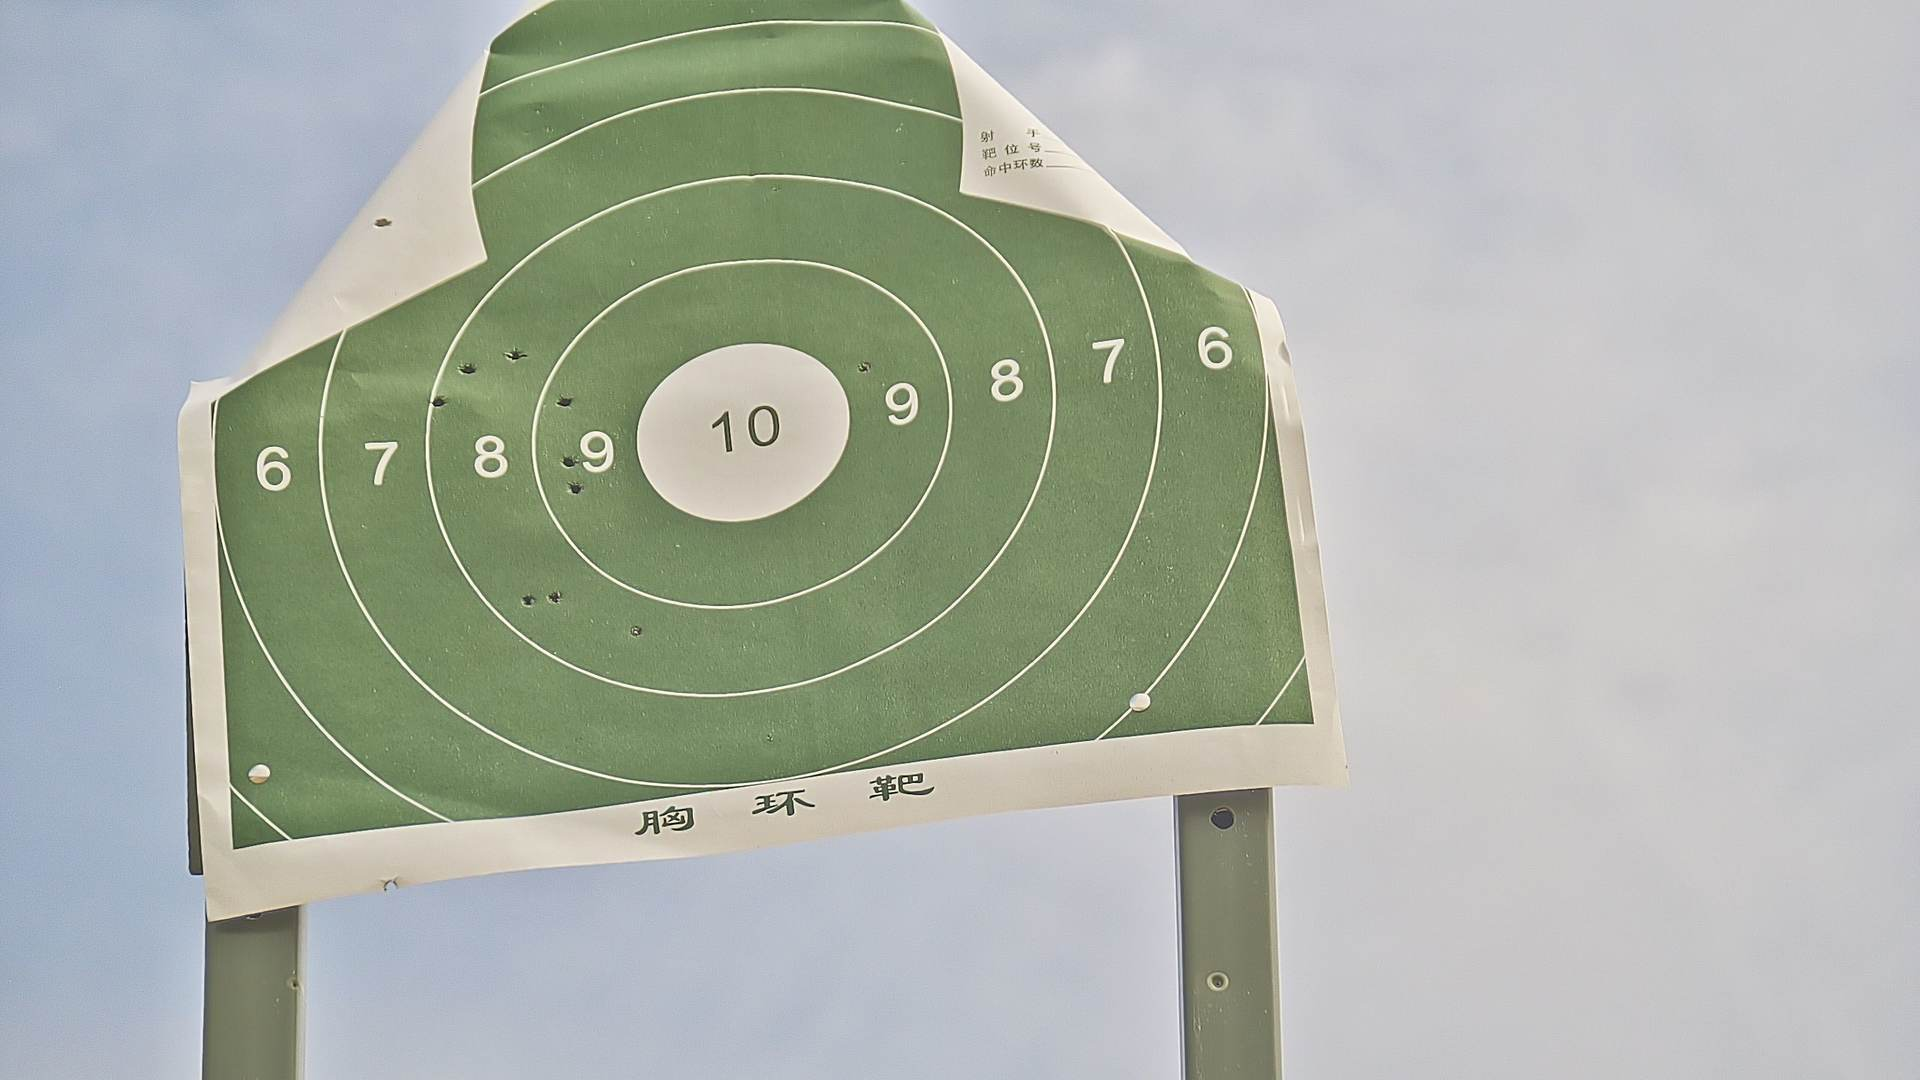hole: (508, 347, 524, 361), (560, 454, 578, 467), (856, 360, 872, 373), (549, 587, 560, 604), (430, 396, 444, 409), (567, 480, 582, 493), (458, 363, 475, 373), (520, 591, 533, 604), (556, 394, 571, 406), (630, 624, 644, 636)
kernel: (735, 426, 742, 433)
target: (204, 3, 1323, 856)
ten: (636, 338, 847, 525)
